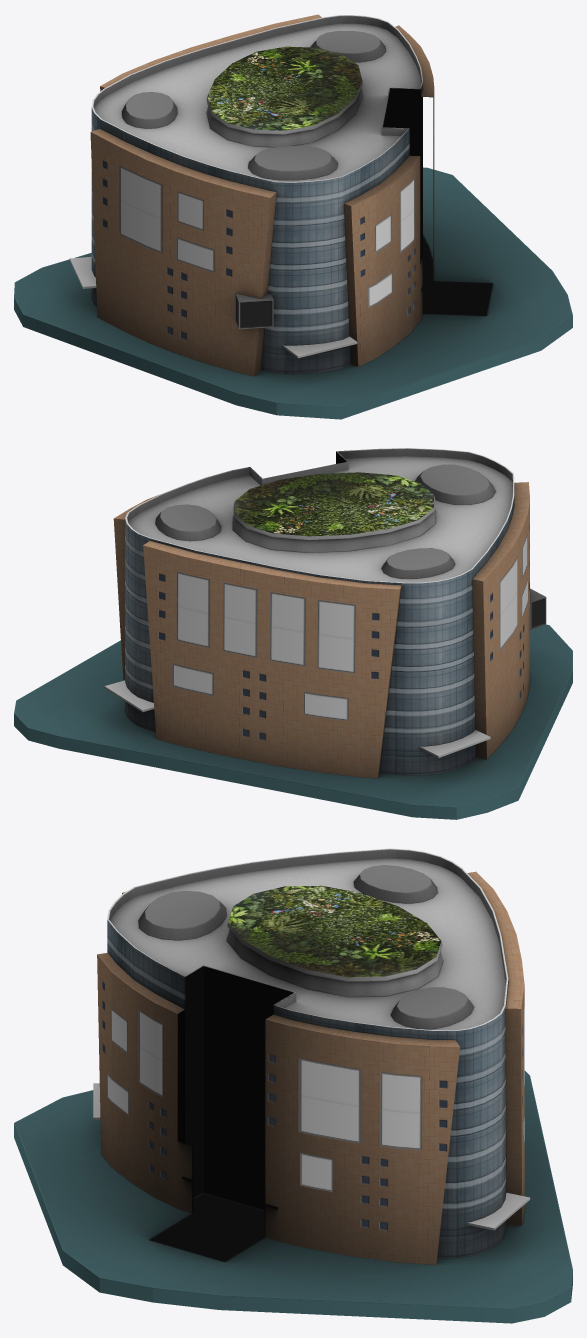
File: lzmgw.gltf
3 views of the same model, one above another, from view 1: azimuth 30°, elevation 25°; view 2: azimuth 150°, elevation 25°; view 3: azimuth 270°, elevation 25° (orthographic). The views are drawn at different scales.
Visible parts, largest first — view 1: group3 pCube16, group3 pCube2, pCube6 group3 polySurface1 polySurface3, polySurface2 pCube6 group3, group3 pCube3, group3 pCube10, pCube6 group3 polySurface4 polySurface1, group3 pCube7, group3 pCube8, group3 pCube9, group3 pCube12, group3 pCube5 (+3 smaller); view 2: group3 pCube5, group3 pCube16, pCube6 group3 polySurface1 polySurface3, polySurface2 pCube6 group3, group3 pCube10, group3 pCube2, pCube6 group3 polySurface4 polySurface1, group3 pCube7, group3 pCube9, group3 pCube8, group3 pCube4, group3 pCube13 (+2 smaller); view 3: group3 pCube16, group3 pCube4, pCube6 group3 polySurface1 polySurface3, polySurface2 pCube6 group3, group3 pCube10, group3 pCube3, group3 pCube5, pCube6 group3 polySurface4 polySurface1, group3 pCube7, group3 pCube9, group3 pCube8, group3 pCube14.
Boxes of the visible parts, bbox=[...] form: group3 pCube16: bbox=[14, 167, 572, 419]; group3 pCube2: bbox=[90, 129, 276, 375]; pCube6 group3 polySurface1 polySurface3: bbox=[91, 82, 422, 374]; polySurface2 pCube6 group3: bbox=[94, 23, 421, 181]; group3 pCube3: bbox=[344, 155, 422, 366]; group3 pCube10: bbox=[206, 46, 363, 147]; pCube6 group3 polySurface4 polySurface1: bbox=[91, 15, 422, 182]; group3 pCube7: bbox=[248, 146, 337, 180]; group3 pCube8: bbox=[122, 92, 177, 128]; group3 pCube9: bbox=[310, 31, 385, 62]; group3 pCube12: bbox=[235, 293, 273, 329]; group3 pCube5: bbox=[100, 14, 321, 91]; group3 pCube5: bbox=[143, 540, 401, 778]; group3 pCube16: bbox=[14, 624, 572, 819]; pCube6 group3 polySurface1 polySurface3: bbox=[125, 451, 514, 775]; polySurface2 pCube6 group3: bbox=[128, 456, 512, 582]; group3 pCube10: bbox=[232, 472, 435, 552]; group3 pCube2: bbox=[472, 482, 529, 759]; pCube6 group3 polySurface4 polySurface1: bbox=[125, 448, 514, 583]; group3 pCube7: bbox=[415, 464, 495, 504]; group3 pCube9: bbox=[155, 504, 221, 541]; group3 pCube8: bbox=[381, 548, 455, 578]; group3 pCube4: bbox=[113, 494, 160, 680]; group3 pCube13: bbox=[419, 729, 490, 757]; group3 pCube16: bbox=[14, 1070, 572, 1323]; group3 pCube4: bbox=[264, 1014, 460, 1264]; pCube6 group3 polySurface1 polySurface3: bbox=[107, 920, 508, 1258]; polySurface2 pCube6 group3: bbox=[110, 858, 505, 1030]; group3 pCube10: bbox=[226, 885, 443, 997]; group3 pCube3: bbox=[97, 953, 193, 1213]; group3 pCube5: bbox=[467, 871, 524, 1225]; pCube6 group3 polySurface4 polySurface1: bbox=[107, 848, 508, 1030]; group3 pCube7: bbox=[138, 890, 226, 940]; group3 pCube9: bbox=[390, 987, 473, 1029]; group3 pCube8: bbox=[353, 865, 437, 903]; group3 pCube14: bbox=[467, 1192, 530, 1230].
Size of the model in its own units: 10.88 by 4.75 by 9.56.
1 material, 1 textured.
